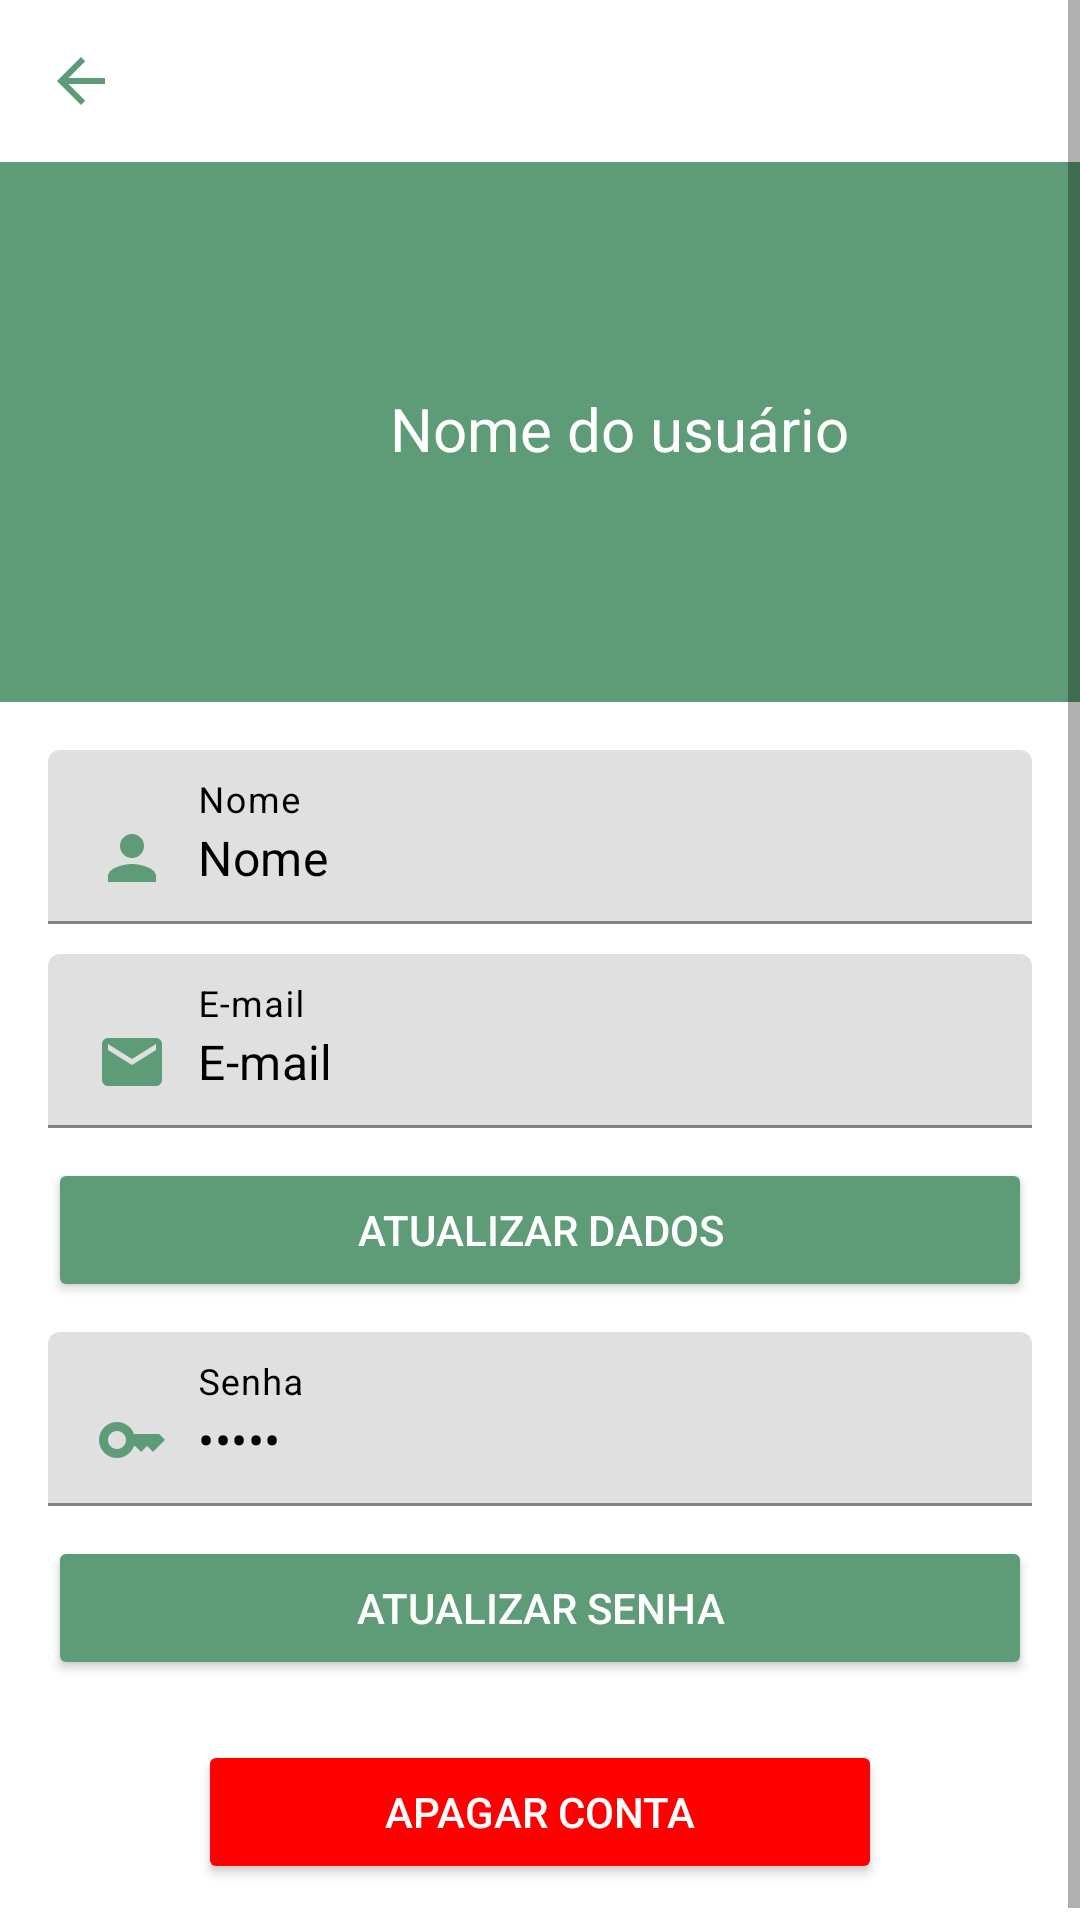

Named icons in this screenshot (1080w x 1920h) and their bounding boxes, (x1, y1, x2, y2):
arrow back: (57, 57, 105, 105)
